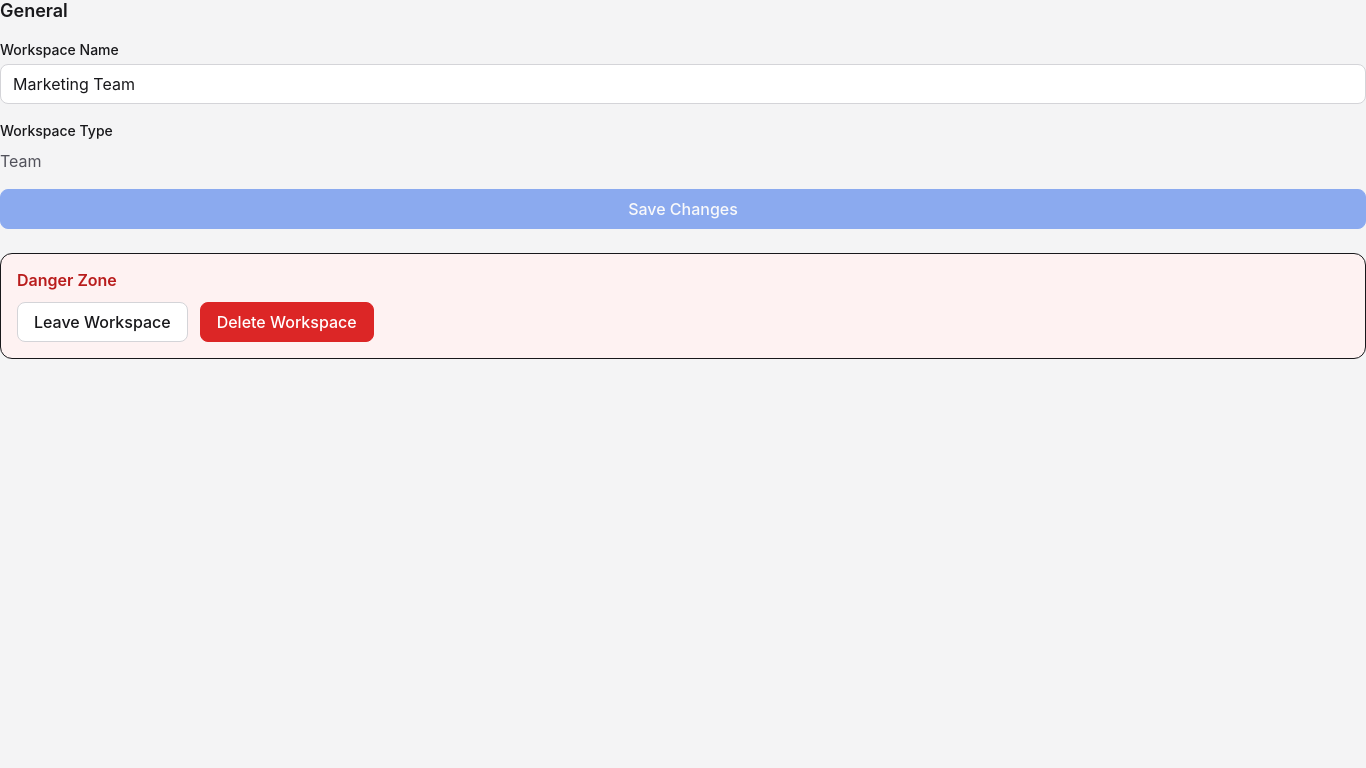
Scenario: WorkspaceSettings Component › requires confirmation for delete action
The width and height of the screenshot is (1366, 768).
Click the button "Delete Workspace": (287, 322) x1=200 y1=302 x2=374 y2=342
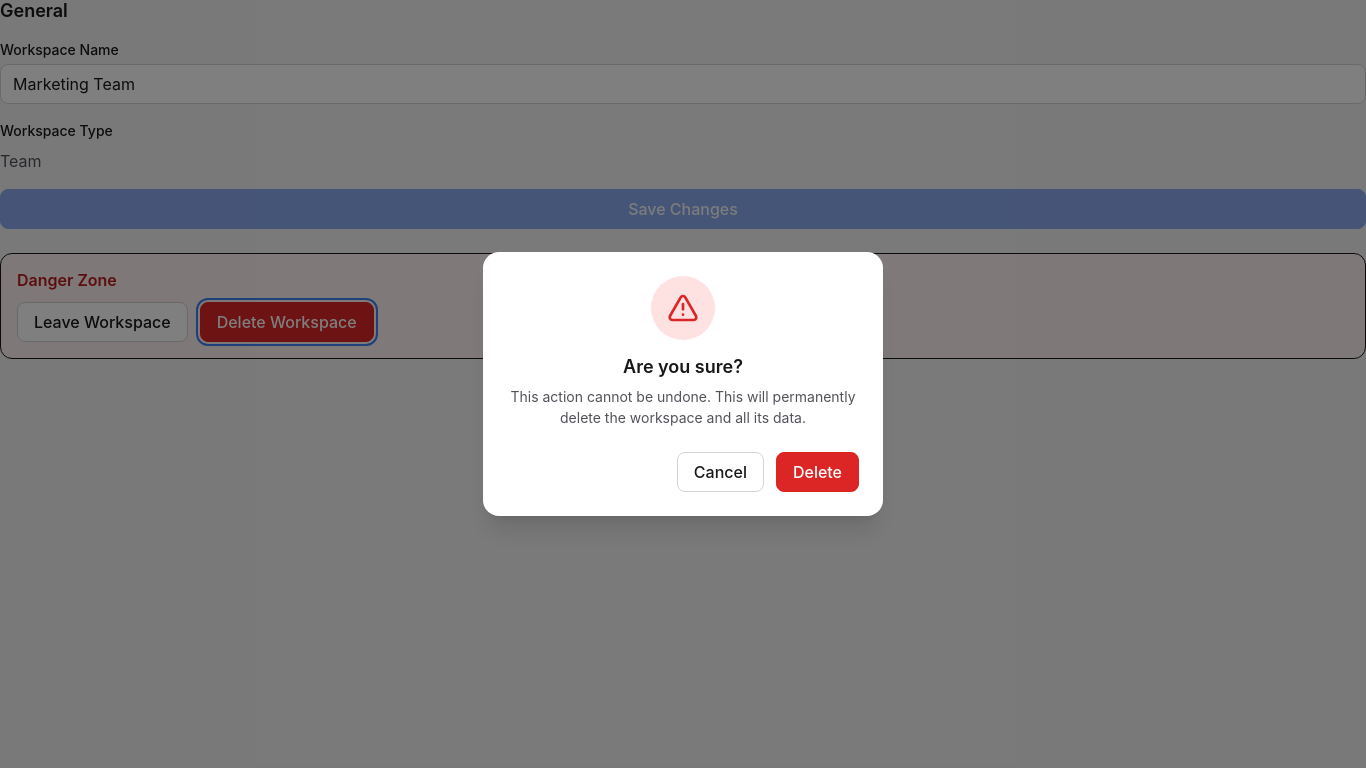
Now the dialog is shown, box x1=483 y1=252 x2=883 y2=516
Now the heading "Are you sure?" is shown, box x1=623 y1=356 x2=743 y2=377
Now the text "This action cannot be undone" is shown, box x1=510 y1=388 x2=856 y2=426
